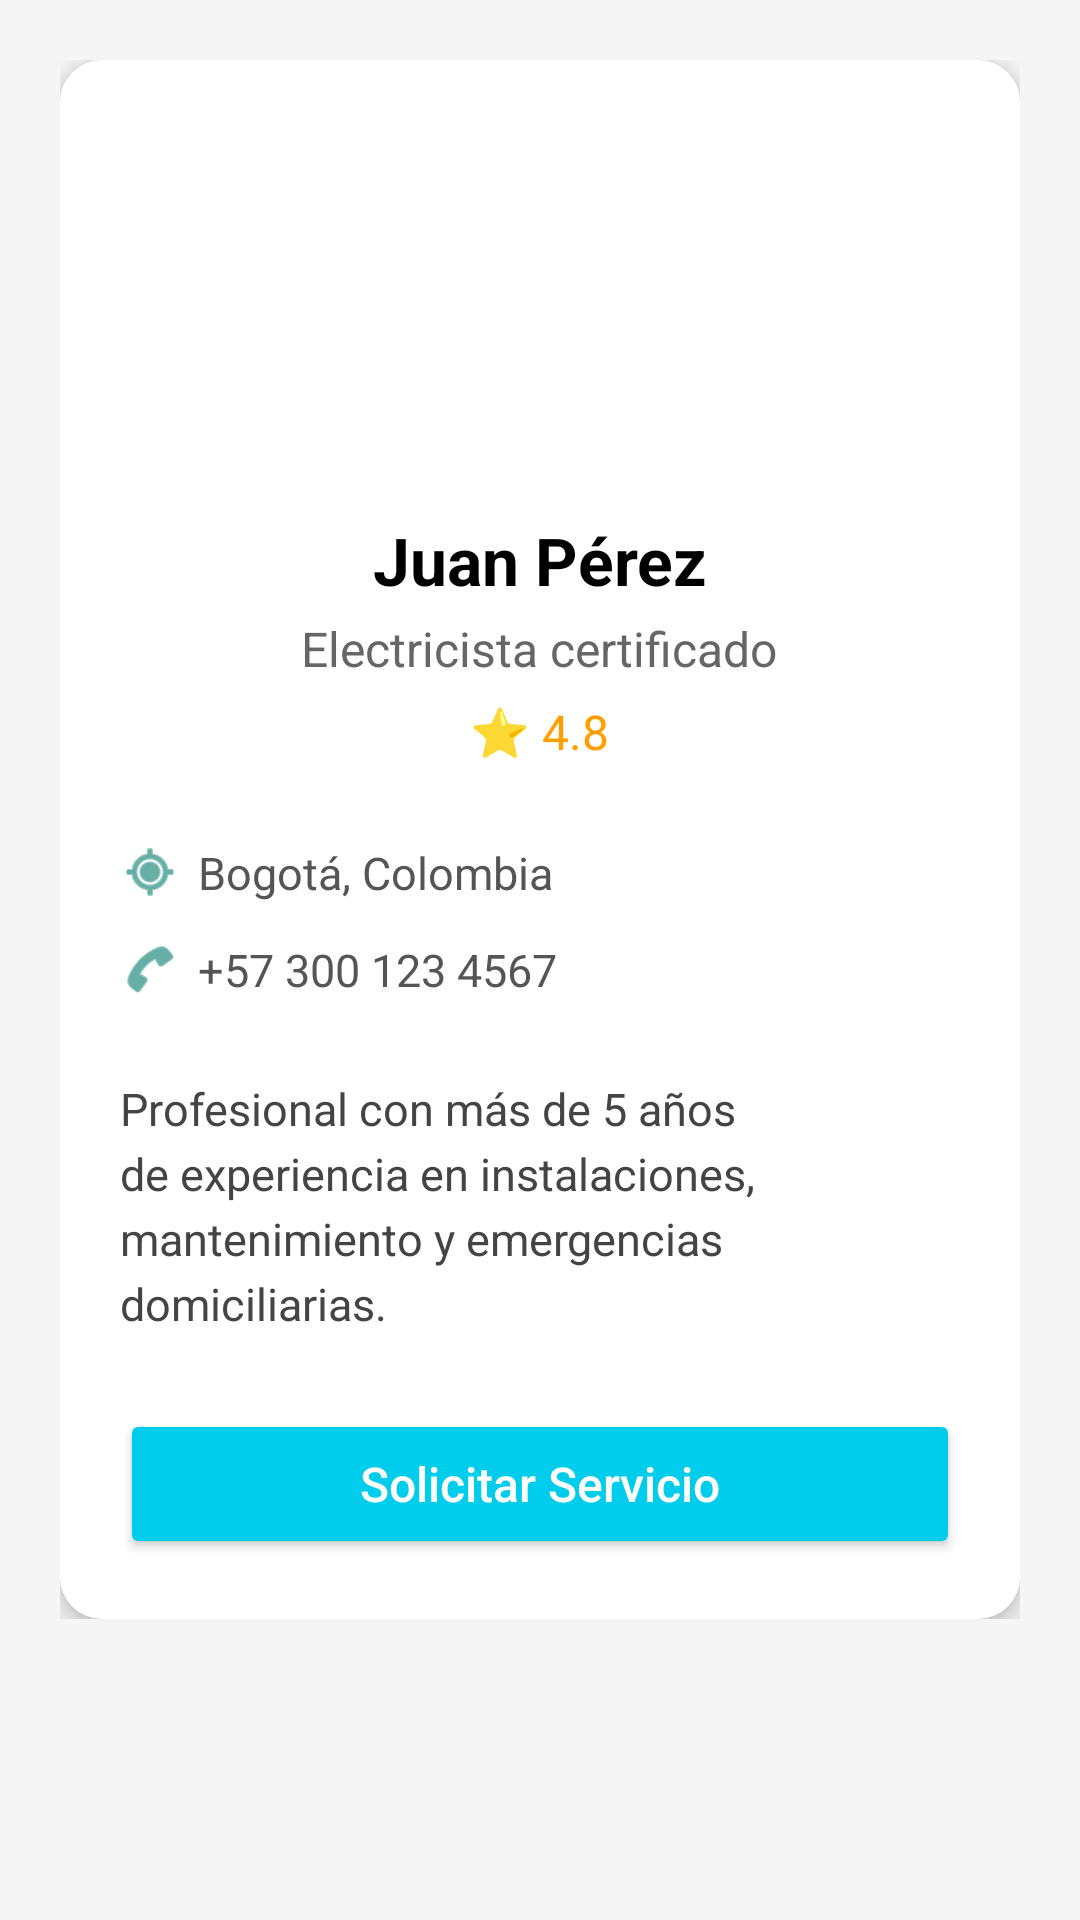

Screen size 1080*1920. Icon name, then its center in pixels as point (x, y):
call: point (150, 969)
mylocation: point (150, 872)
